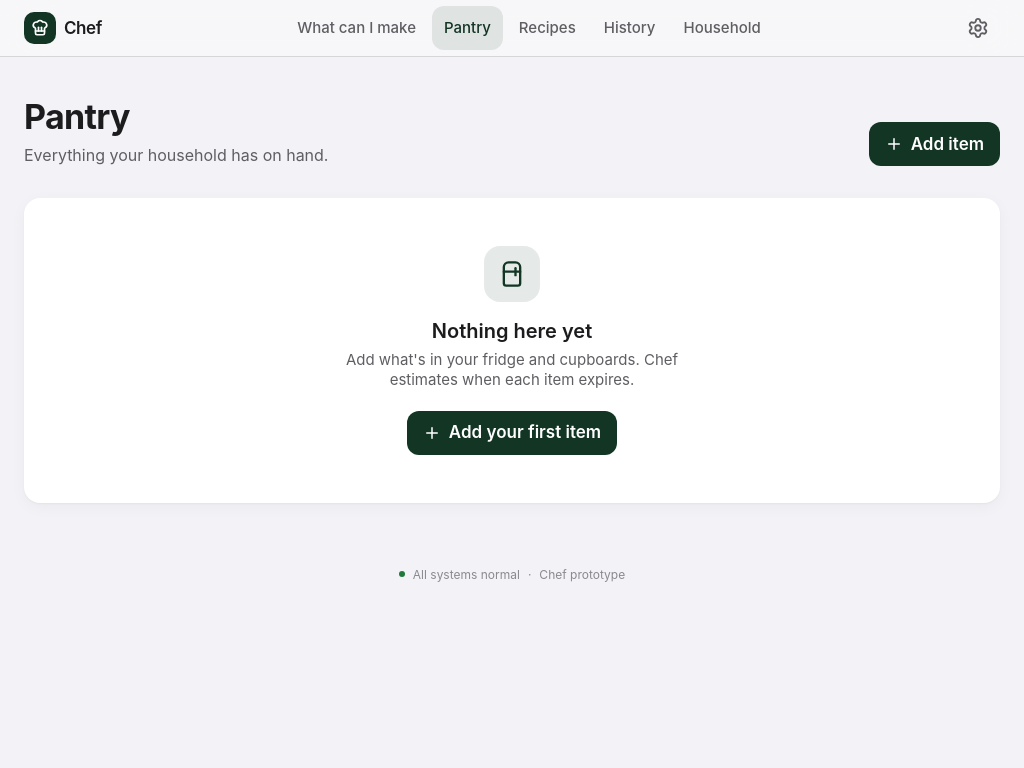
Test: PantryPage › adds an autocompleted item with its default storage, unit and estimate
This screenshot has width=1024, height=768.
Click the button "Add item" at (934, 144), box [869,122,1000,166]
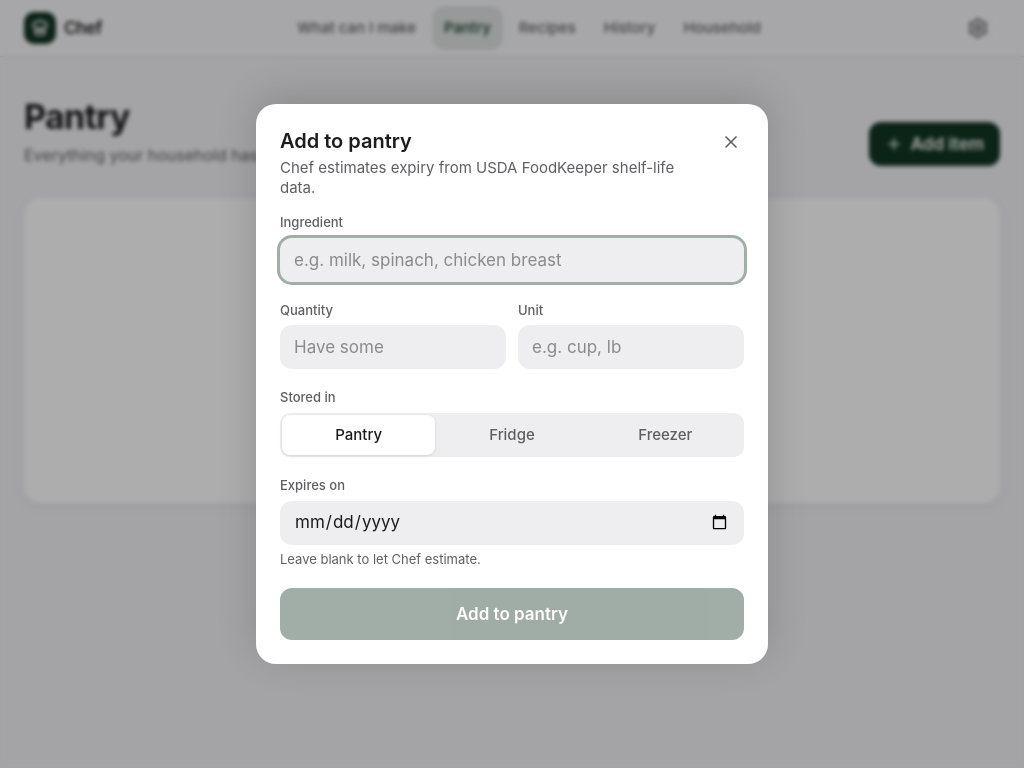
Type "spin" into the dropdown at (512, 260), box [280,238,744,282]
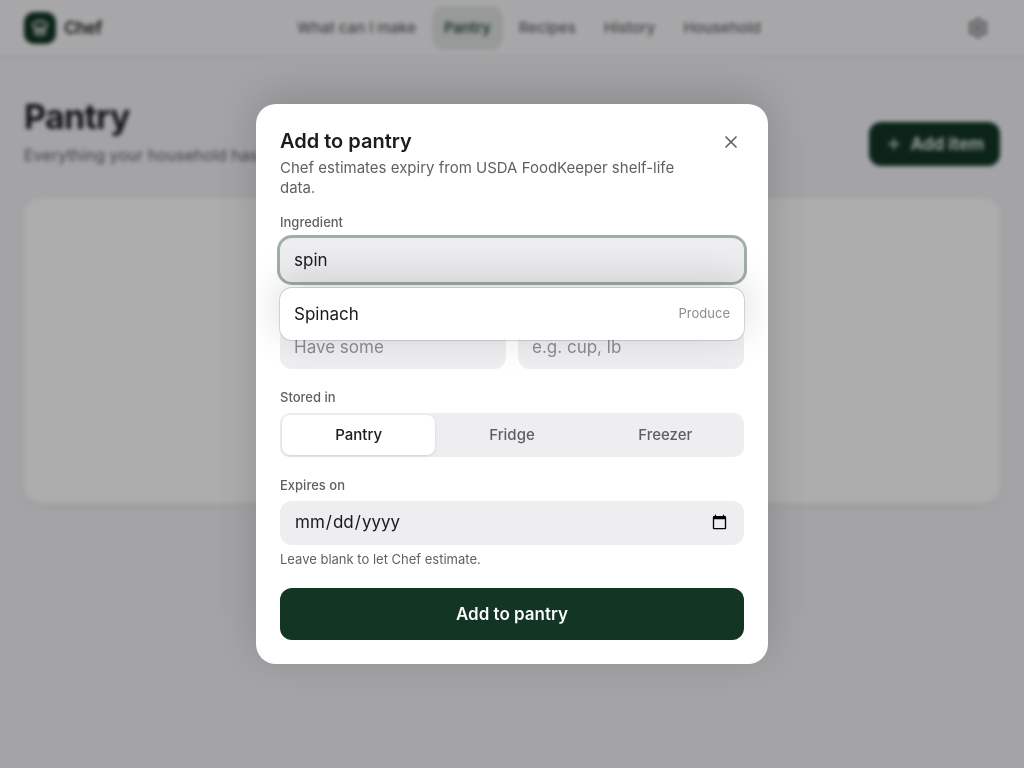
Click the option "Spinach produce" at (326, 314), box [294,304,730,324]
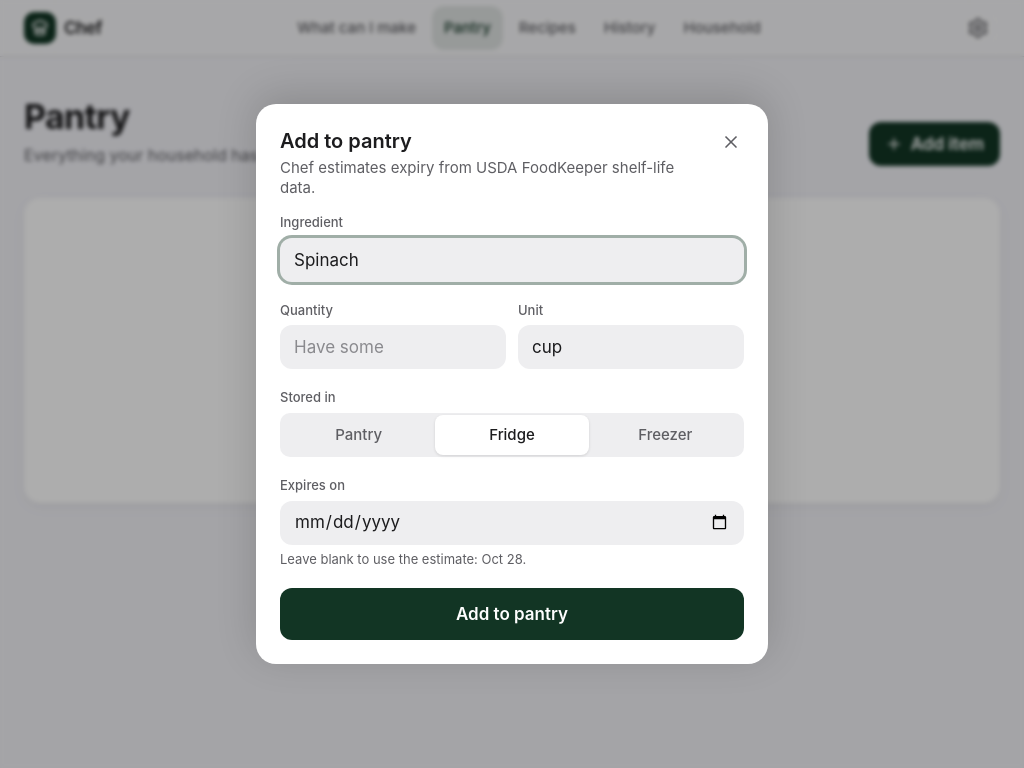
Expected: the radio button labelled "Fridge" is checked, [435,415,589,455]
Expected: the field labelled "Unit" holds "cup", [518,326,744,370]
Type "2" into the number field labelled "Quantity" at (393, 348), box [280,326,506,370]
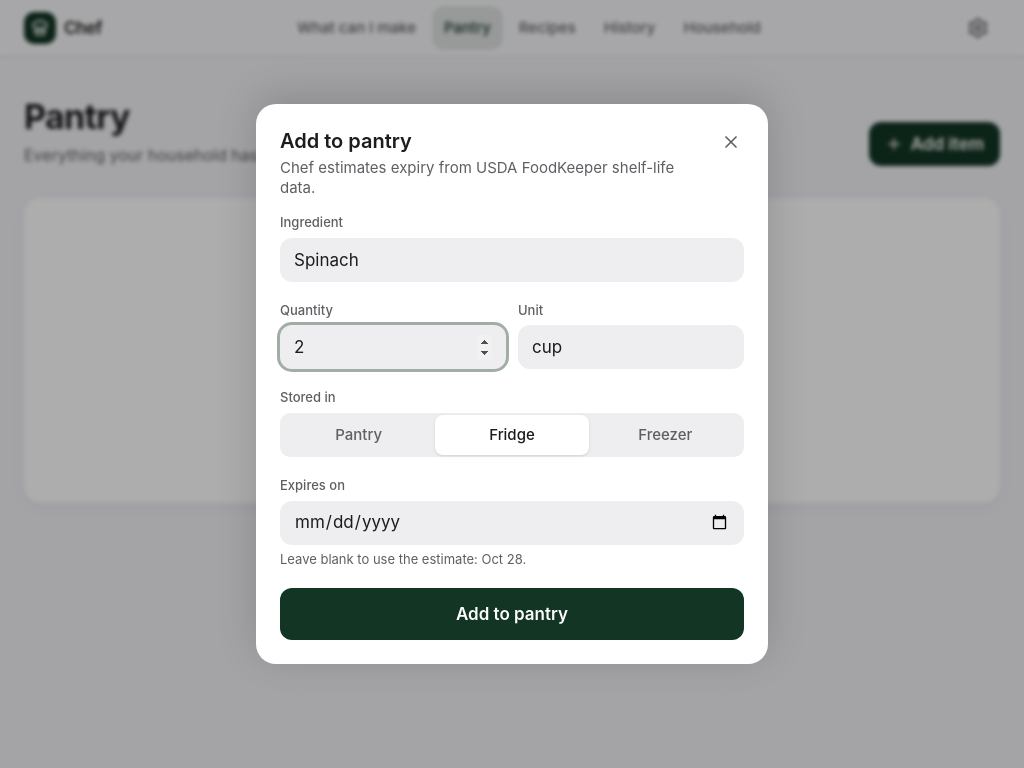
Click the button "Add to pantry" at (512, 614), box [280,588,744,640]
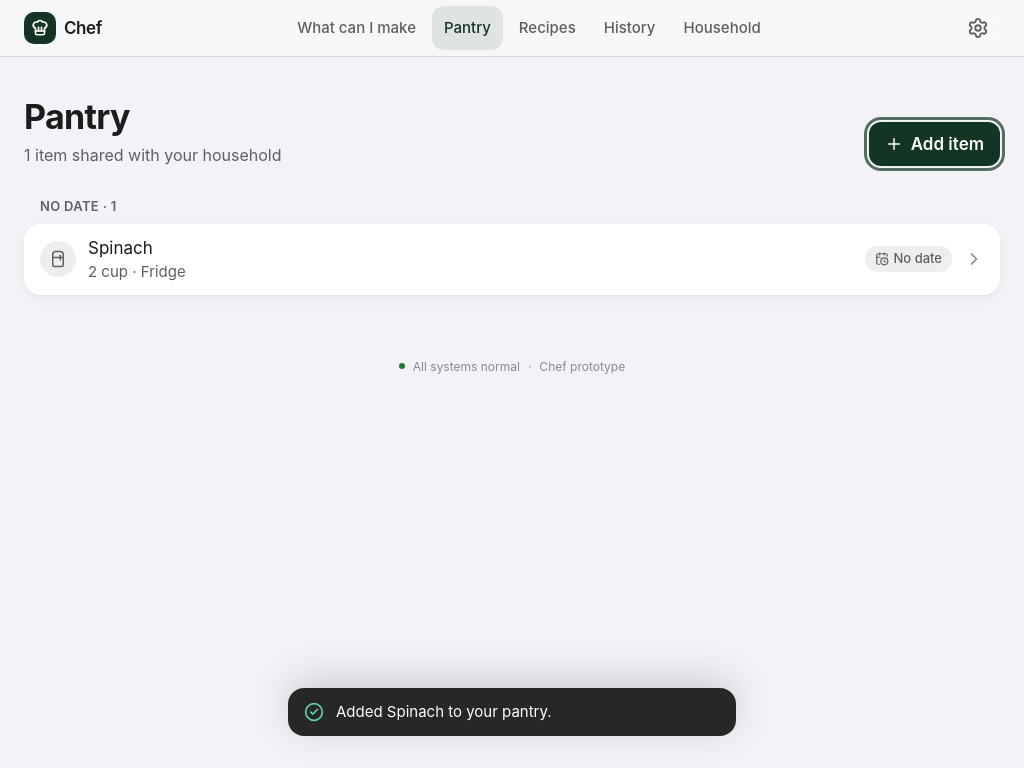
Expected: the text "Added Spinach to your pantry." is shown, [336,702,552,721]
Expected: the text "Spinach" is shown, [88,238,153,258]
